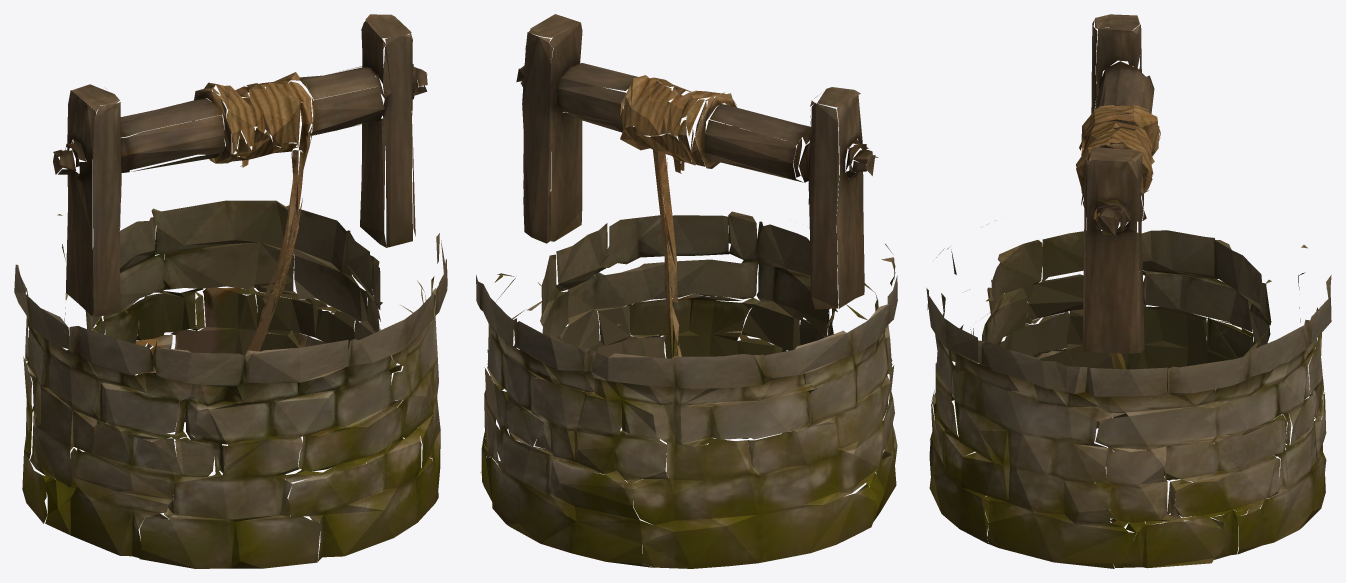
The model's file is well.glb.
3 renders of one model, left to right at view 1: azimuth 30°, elevation 25°; view 2: azimuth 150°, elevation 25°; view 3: azimuth 270°, elevation 25°, orthographic. The views are drawn at different scales.
Visible parts, largest first — view 1: textured_mesh.obj.003; view 2: textured_mesh.obj.003; view 3: textured_mesh.obj.003.
Boxes of the visible parts, bbox=[...] form: textured_mesh.obj.003: bbox=[14, 14, 447, 568]; textured_mesh.obj.003: bbox=[476, 14, 897, 568]; textured_mesh.obj.003: bbox=[926, 14, 1331, 568].
Bounding box in the file's own units: 1.83 × 1.97 × 1.81.
Materials: 1 (1 with a texture image).
